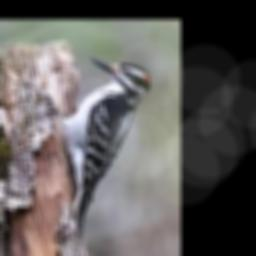Woodpecker: (60, 57, 150, 233)
